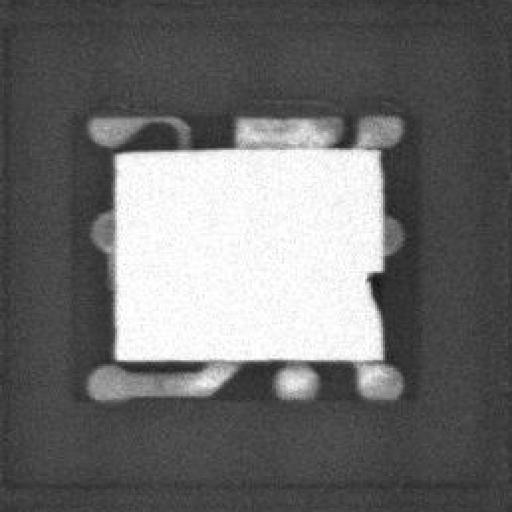DIE_BROKEN: (361, 267, 381, 317)
